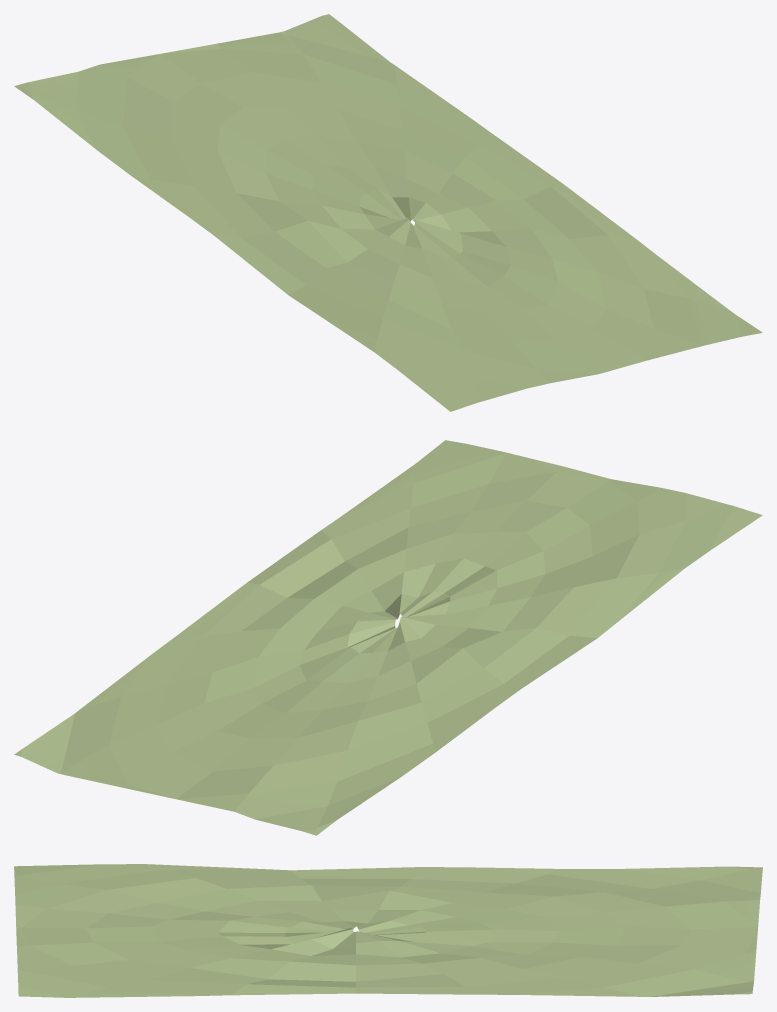
Rendered from LowPolyGroundSS.fbx.
3 renders of one model, top to bottom at view 1: azimuth 30°, elevation 25°; view 2: azimuth 150°, elevation 25°; view 3: azimuth 270°, elevation 25°, orthographic. The views are drawn at different scales.
Visible parts, largest first — view 1: SueloVerde; view 2: SueloVerde; view 3: SueloVerde.
Boxes of the visible parts, x1=… form: SueloVerde: x1=14, y1=14, x2=762, y2=411; SueloVerde: x1=14, y1=440, x2=762, y2=835; SueloVerde: x1=14, y1=864, x2=762, y2=997.
Size of the model in its own units: 1279 by 58.32 by 3104.
